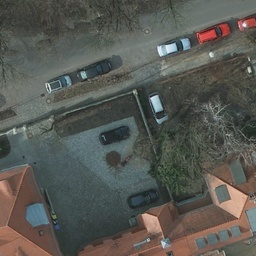car: (195, 22, 229, 45), (154, 37, 191, 57), (146, 93, 169, 124), (77, 60, 111, 80), (97, 125, 132, 144), (41, 76, 73, 95), (127, 189, 160, 205), (237, 14, 256, 32)
